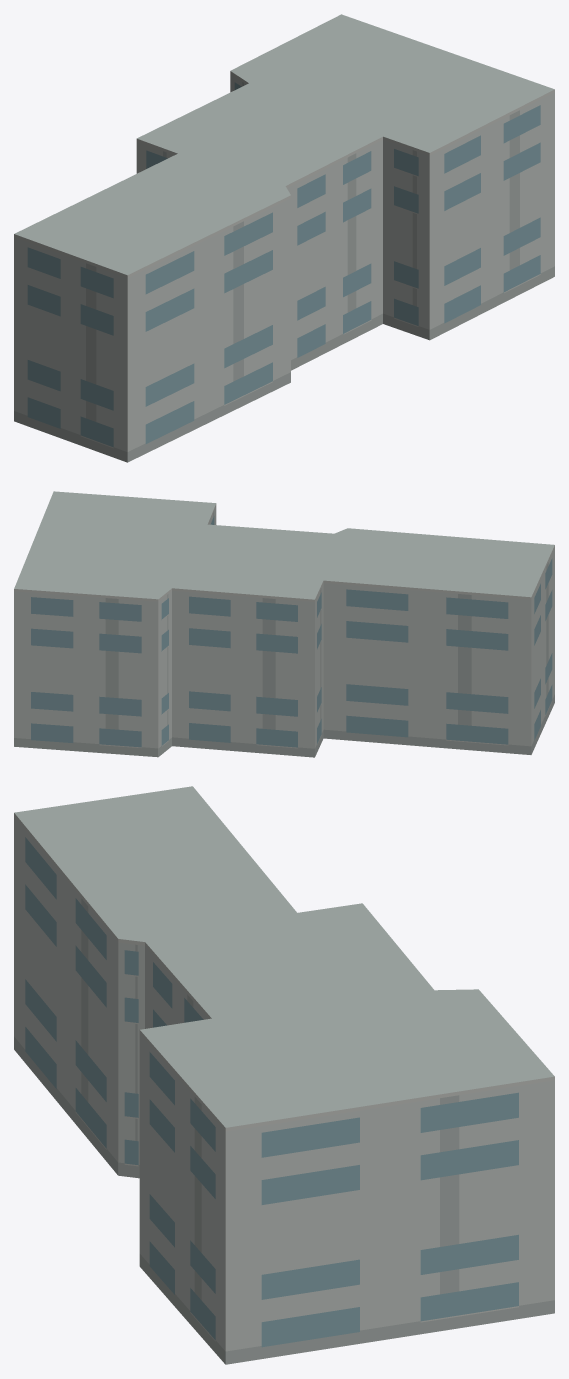
File: residential-03684ef0-2969-4fee-8bd6-a9d5ff9aa3dd.glb
3 renders of one model, top to bottom at view 1: azimuth 30°, elevation 25°; view 2: azimuth 150°, elevation 25°; view 3: azimuth 270°, elevation 25°, orthographic. The views are drawn at different scales.
Parts seen in each view (by area): view 1: residential-03684ef0-2969-4fee-8bd6-a9d5ff9aa3dd.tmp; view 2: residential-03684ef0-2969-4fee-8bd6-a9d5ff9aa3dd.tmp; view 3: residential-03684ef0-2969-4fee-8bd6-a9d5ff9aa3dd.tmp.
Boxes of the visible parts, box(x1,y1,x2,y2) form: residential-03684ef0-2969-4fee-8bd6-a9d5ff9aa3dd.tmp: box(14, 14, 554, 462); residential-03684ef0-2969-4fee-8bd6-a9d5ff9aa3dd.tmp: box(14, 491, 554, 757); residential-03684ef0-2969-4fee-8bd6-a9d5ff9aa3dd.tmp: box(14, 786, 554, 1364).
Size of the model in its own units: 47.19 by 15.25 by 31.57.
